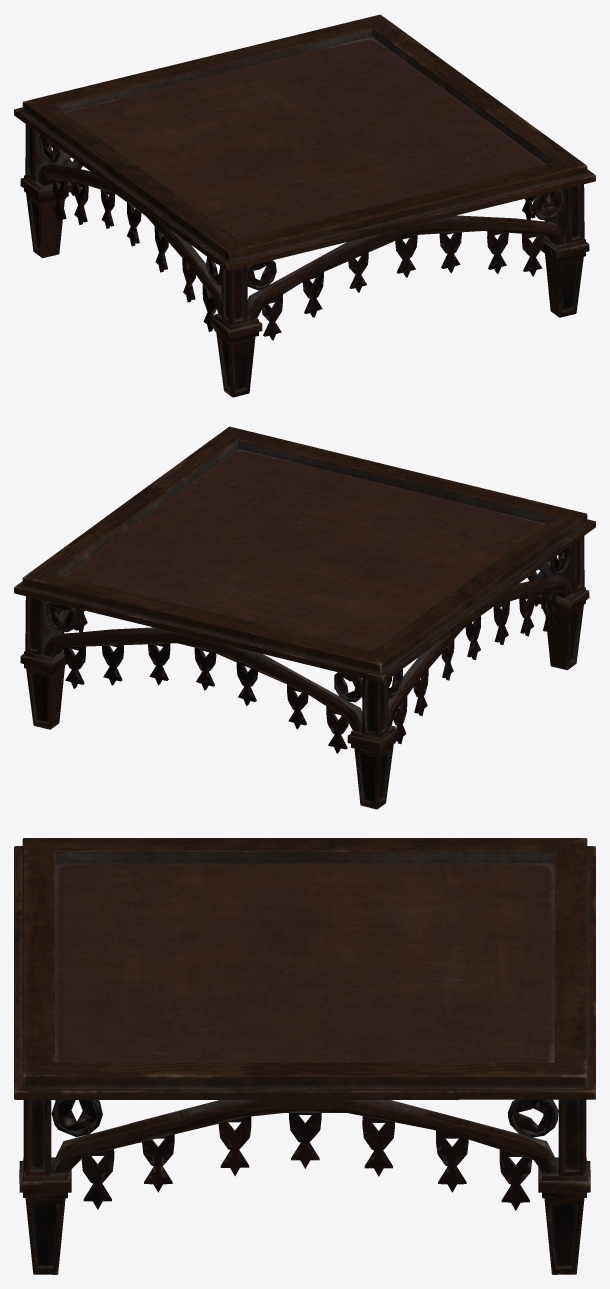
The model's file is gothic_coffee_table_lod2.glb.
The picture shows the model from 3 angles, top to bottom: view 1: azimuth 30°, elevation 25°; view 2: azimuth 150°, elevation 25°; view 3: azimuth 270°, elevation 25°; orthographic projection. The views are drawn at different scales.
Parts seen in each view (by area): view 1: gothic_coffee_table; view 2: gothic_coffee_table; view 3: gothic_coffee_table.
Boxes of the visible parts, x1,y1,x2,y2 form: gothic_coffee_table: (14, 14, 595, 397); gothic_coffee_table: (14, 426, 595, 809); gothic_coffee_table: (14, 838, 595, 1274).
Bounding box in the file's own units: 1.44 × 0.5588 × 1.44.
Materials: 1 (1 with a texture image).
